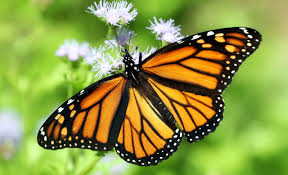Butterfly: (35, 26, 264, 167)
